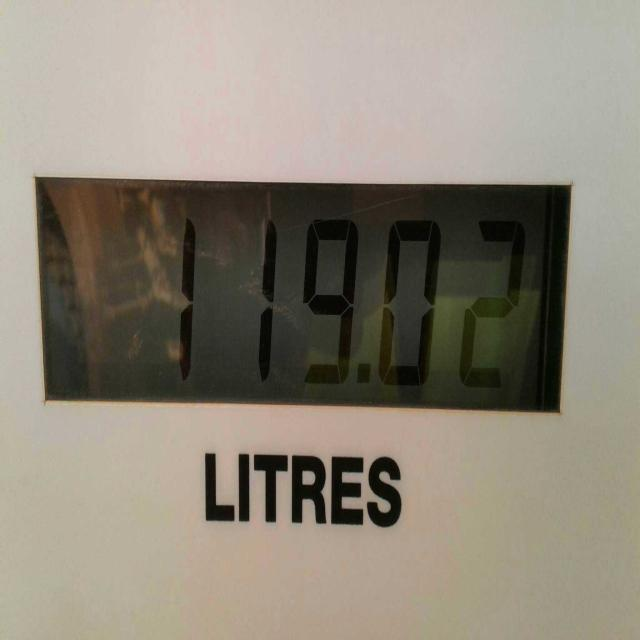.: (357, 361, 372, 390)
0: (380, 215, 438, 388)
1: (178, 220, 201, 385), (260, 218, 278, 386)
2: (462, 225, 524, 387)
9: (306, 220, 356, 388)
